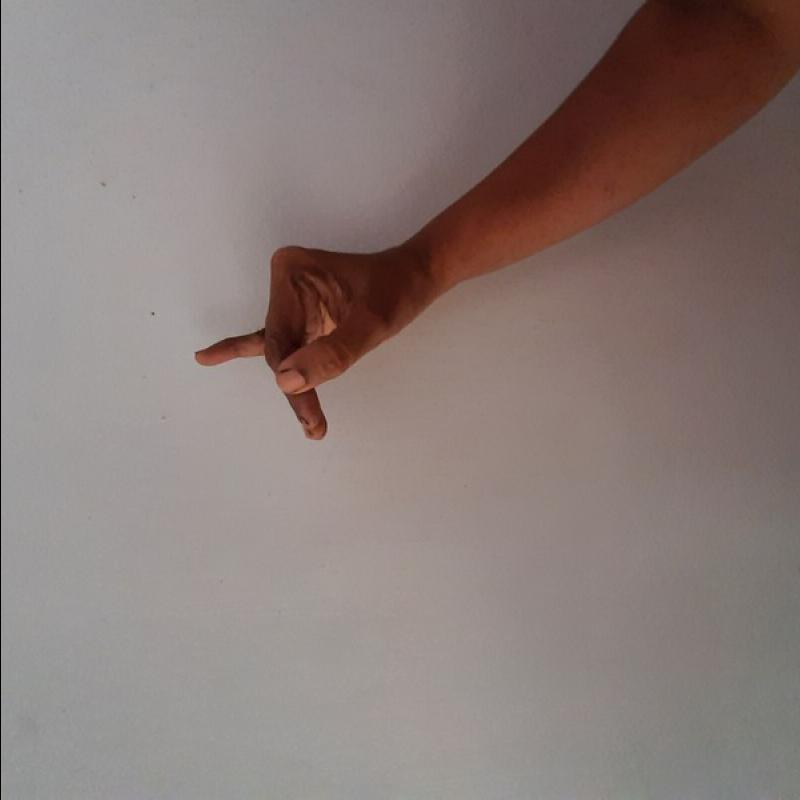Kartharee Mukham: (181, 236, 426, 451)
